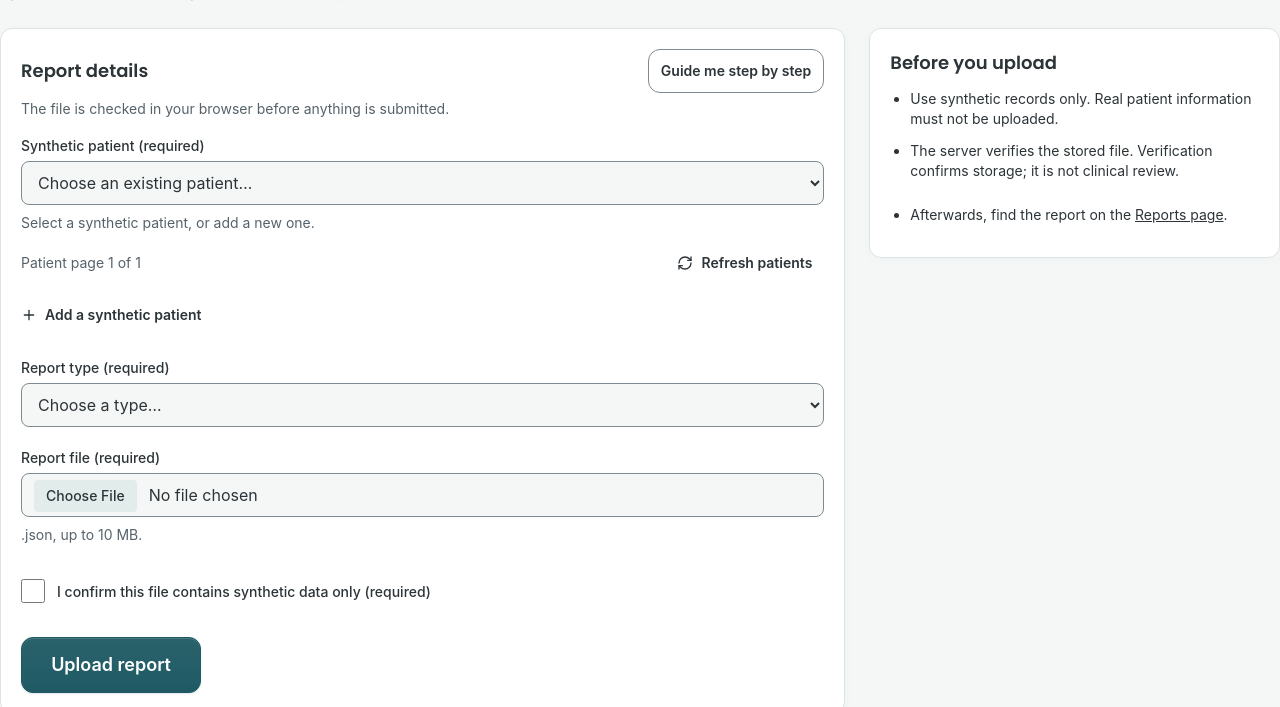
UploadReportPage › has no detectable accessibility violations (empty and error states)
(page scrolled)
Click the button "Upload report".
click(111, 665)  # box [21,637,201,693]
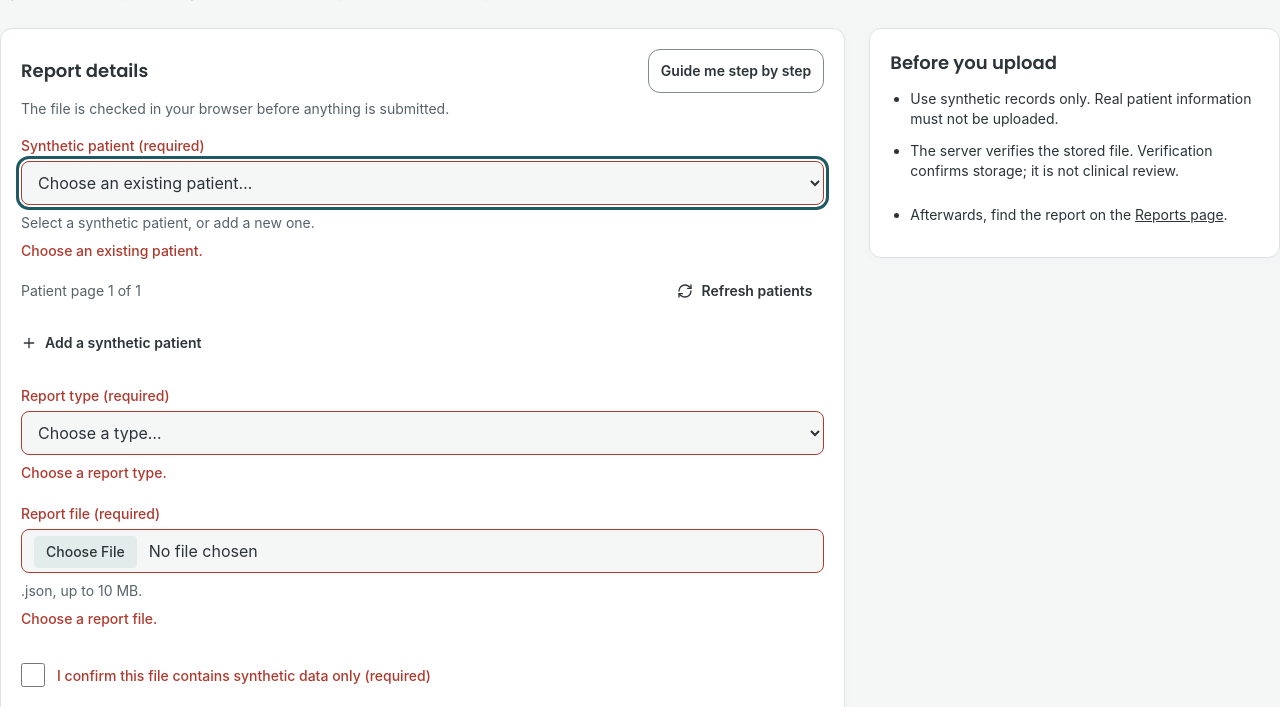
Expected: the text "Choose a report file." is shown, [21,610,157,627]
